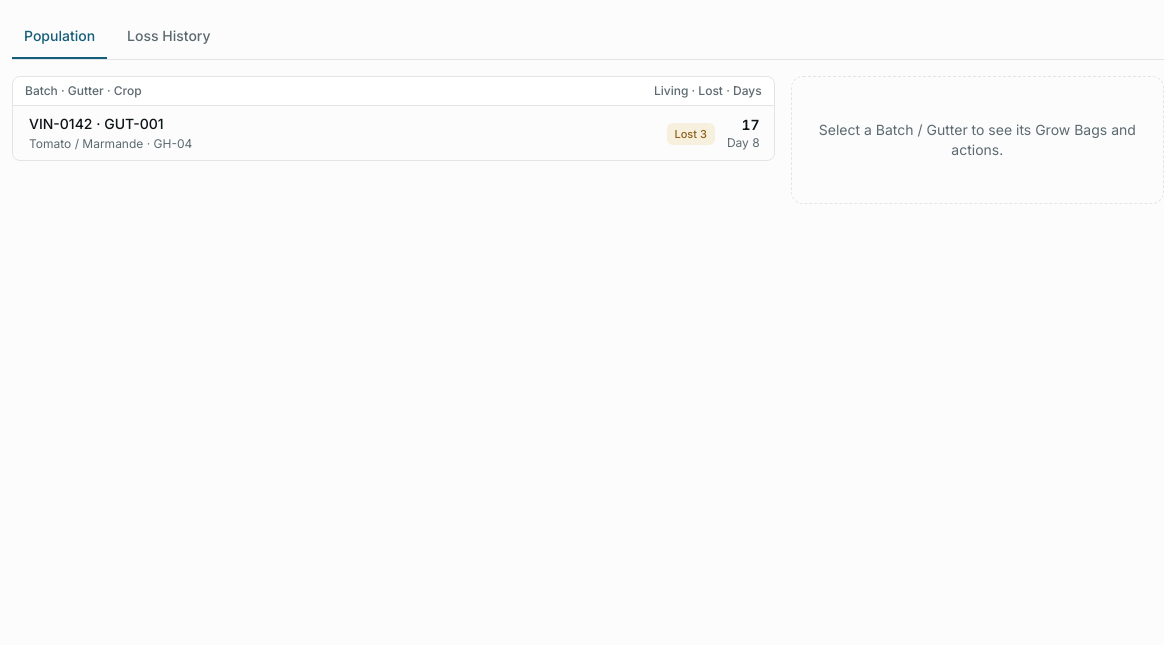
Test case: VinesProductionPage › auto-selects the sole living Grow Cube in a 1-plant Grow Bag
Expected: the text "VIN-0142 · GUT-001" is shown, [29,114,164,134]
Click the button "VIN-0142 · GUT-001 Tomato / Marmande · GH-04".
click(96, 123)  # box [29,114,654,152]
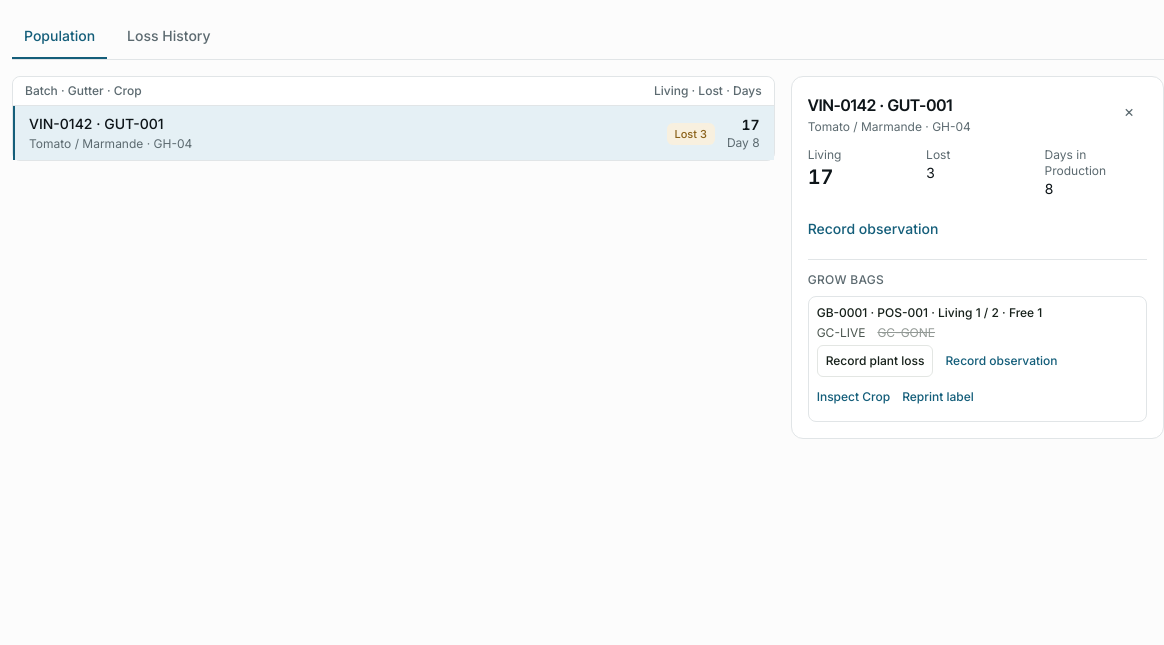
Expected: the text "GB-0001 · POS-001 · Living 1 / 2 · Free 1" is shown, [817,304,1042,320]
Click the button "Record plant loss".
click(875, 360)  # box [817,344,934,376]
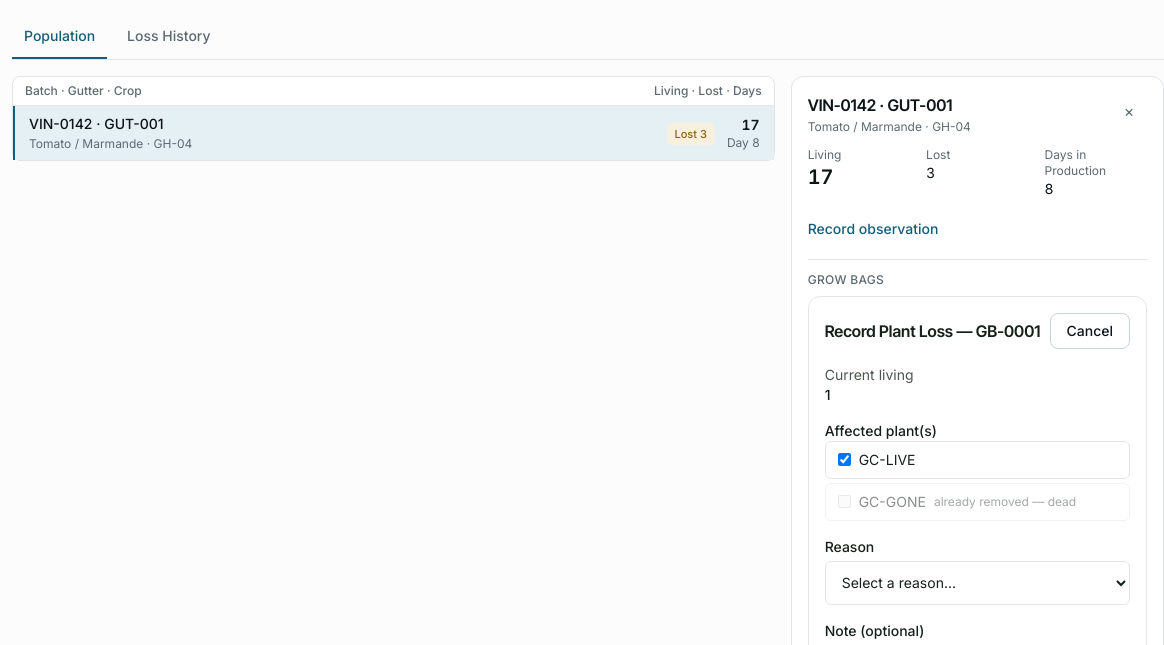
Expected: the heading "Record Plant Loss — GB-0001" is shown, [825,318,1040,342]
Expected: the checkbox labelled "GC-LIVE" is checked, [838,453,851,466]
Select "Dead" in the dropdown labelled "Reason" at (977, 582), box [825,560,1130,604]
(page scrolled)
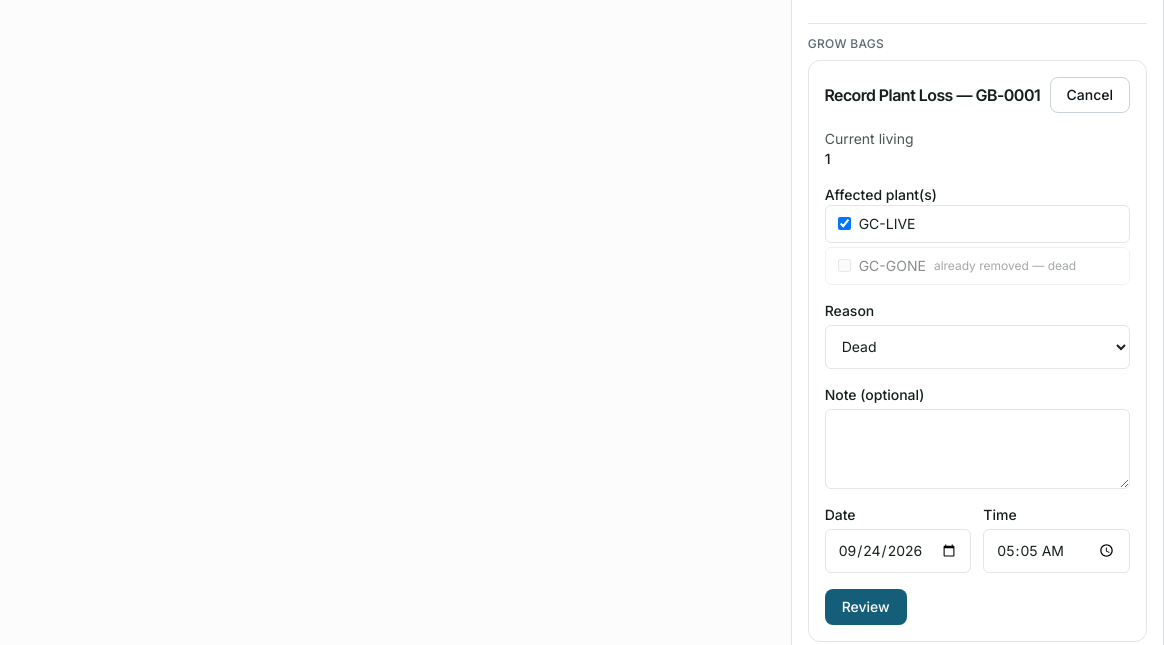
Click the button "Review".
click(866, 606)  # box [825,588,907,624]
(page scrolled)
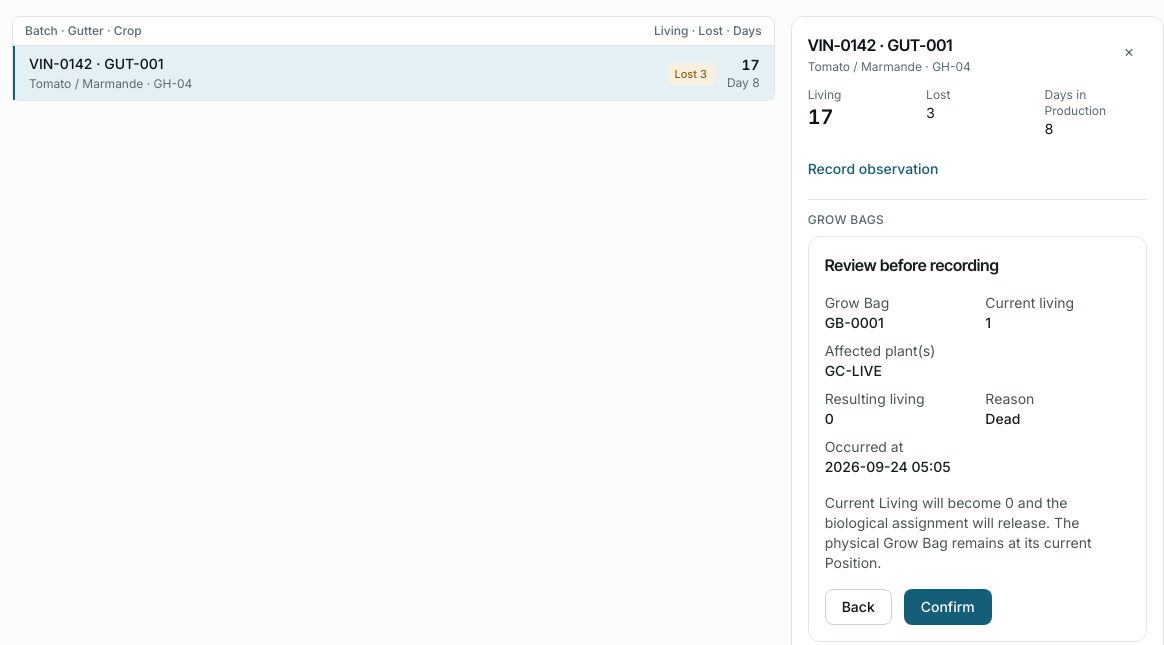
Expected: the text "GC-LIVE" is shown, [825,362,882,378]
Expected: the heading "Review before recording" is shown, [825,254,999,274]
